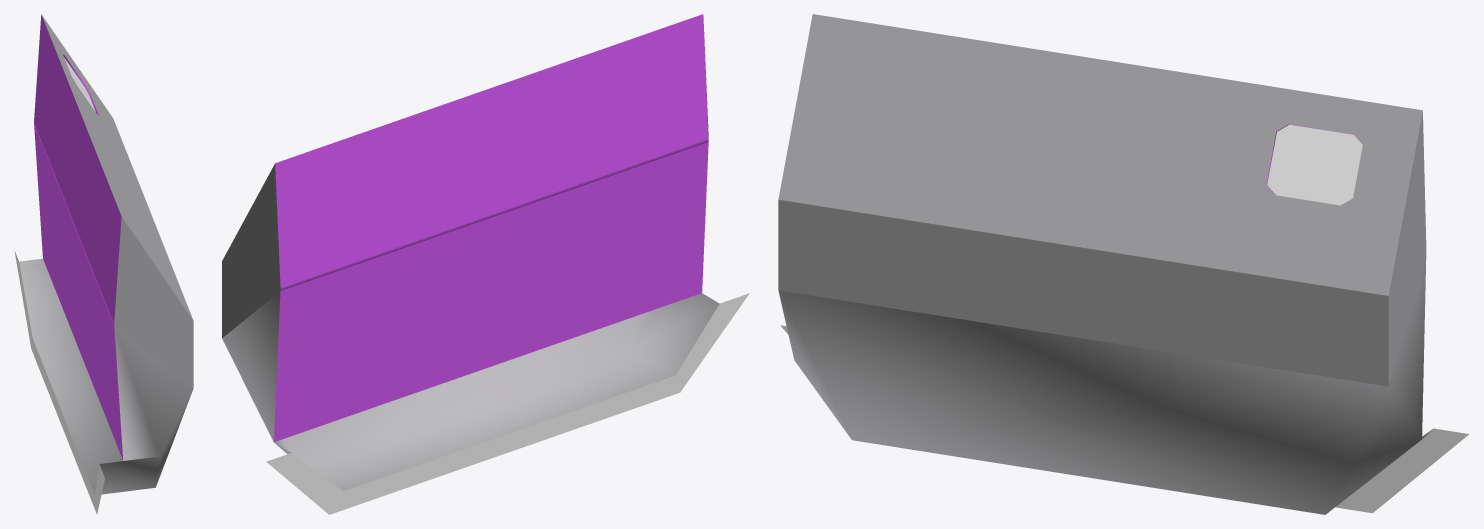
The picture shows the model from 3 angles, left to right: view 1: azimuth 30°, elevation 25°; view 2: azimuth 150°, elevation 25°; view 3: azimuth 270°, elevation 25°; orthographic projection. The views are drawn at different scales.
Parts seen in each view (by area): view 1: Layer0_001.001; view 2: Layer0_001.001; view 3: Layer0_001.001.
Boxes of the visible parts, x1,y1,x2,y2 form: Layer0_001.001: (14, 14, 193, 514); Layer0_001.001: (222, 14, 749, 514); Layer0_001.001: (778, 14, 1469, 514).
Size of the model in its own units: 0.5397 by 0.6898 by 1.02.
